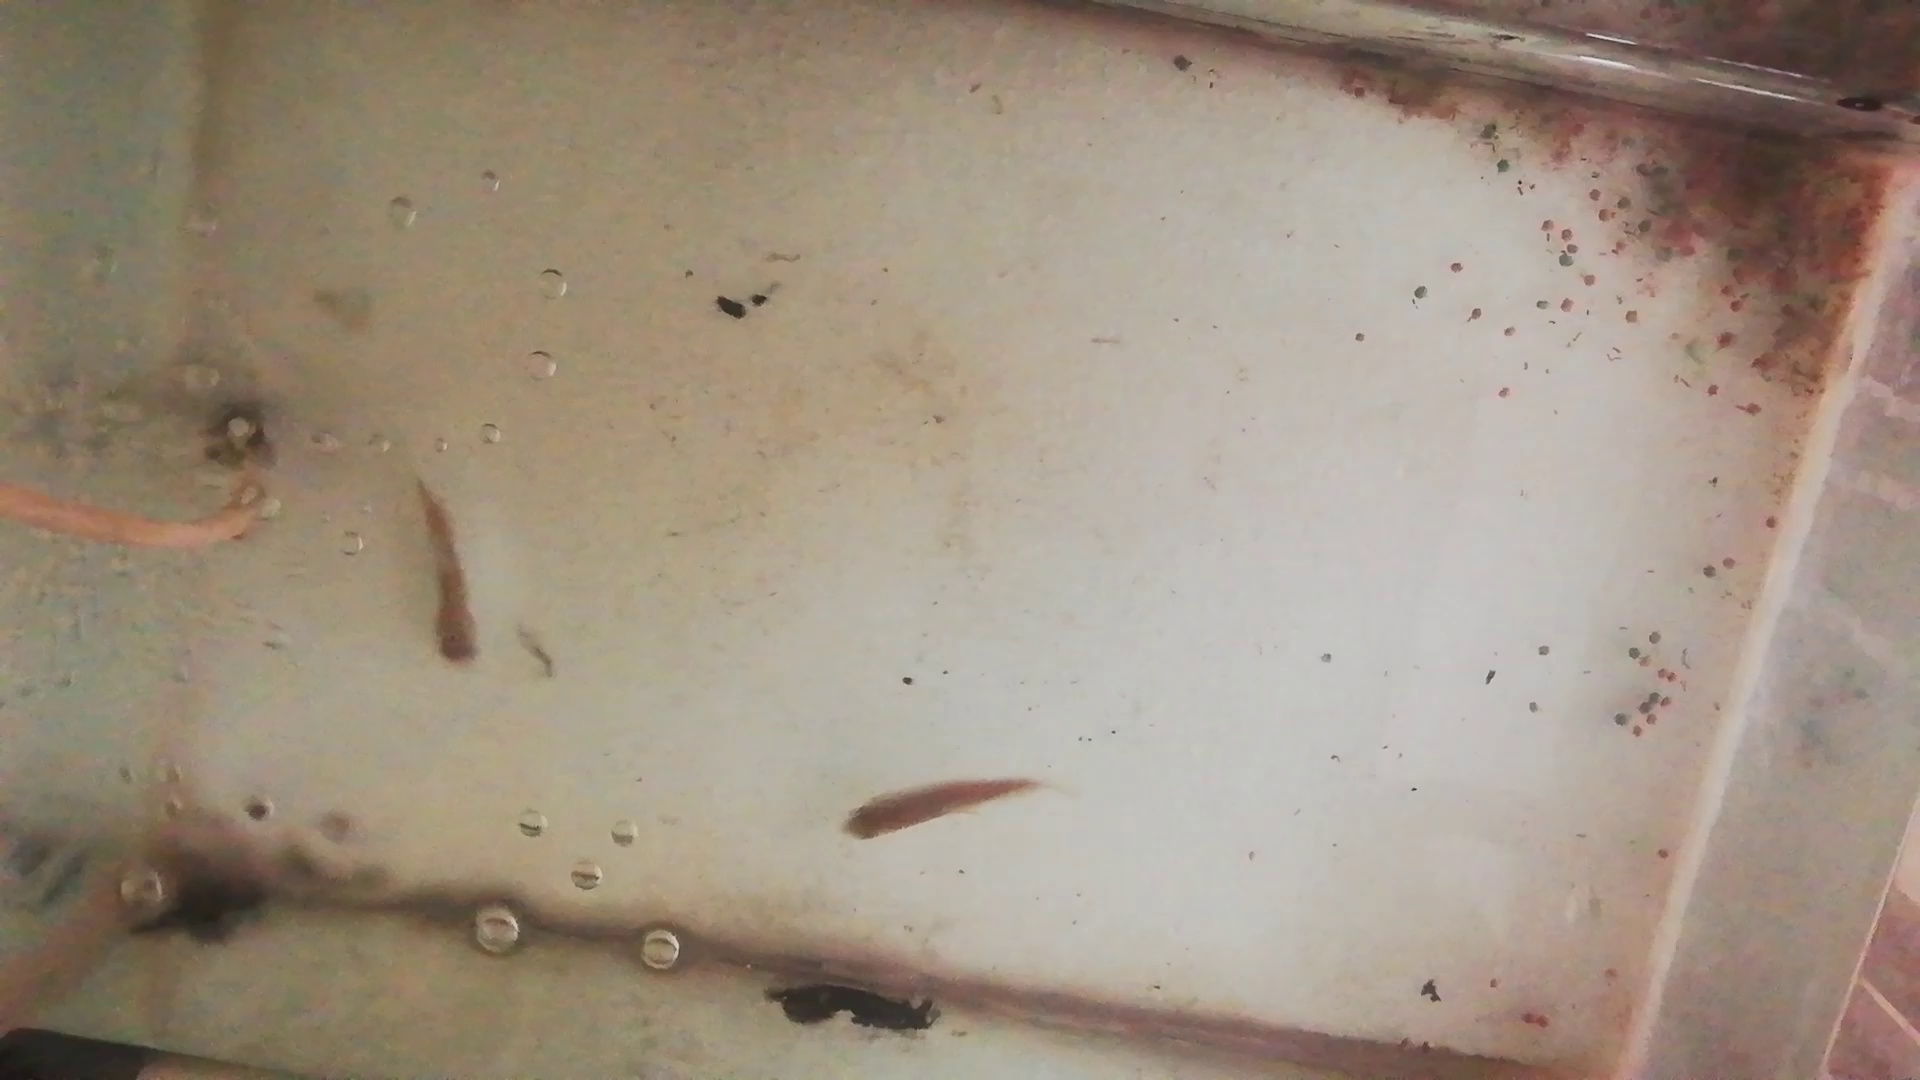fish: (413, 477, 491, 669), (839, 774, 1060, 840)
